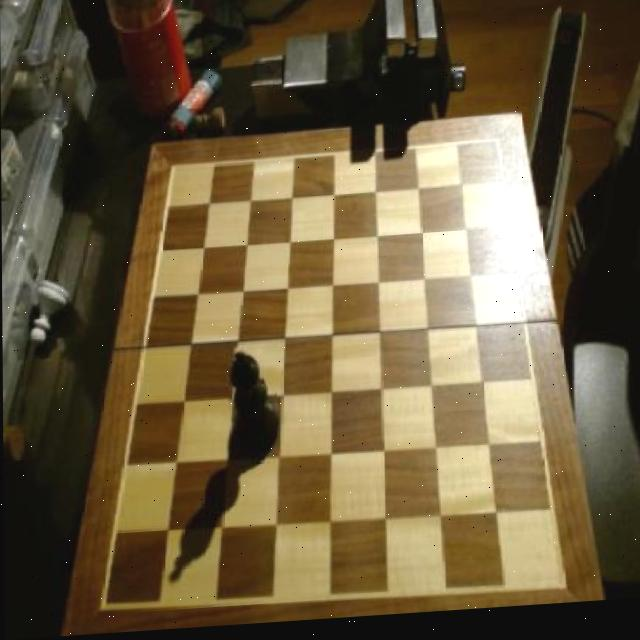black-bishop: (228, 347, 280, 462)
